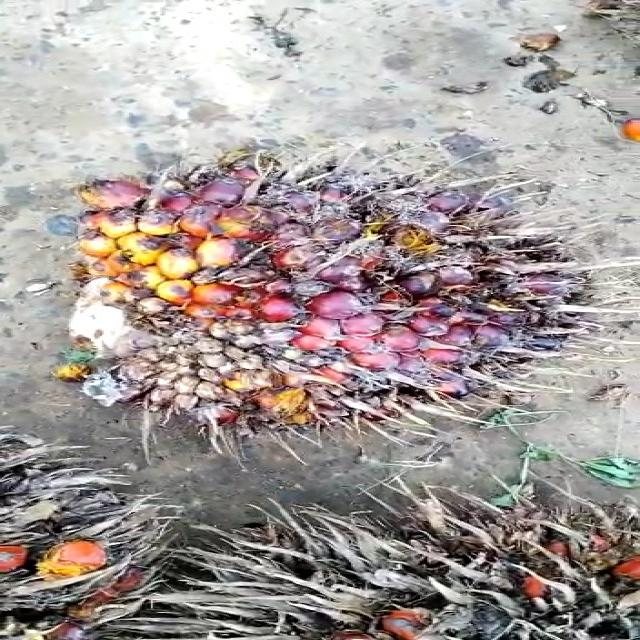palm oil: (41, 143, 624, 443)
